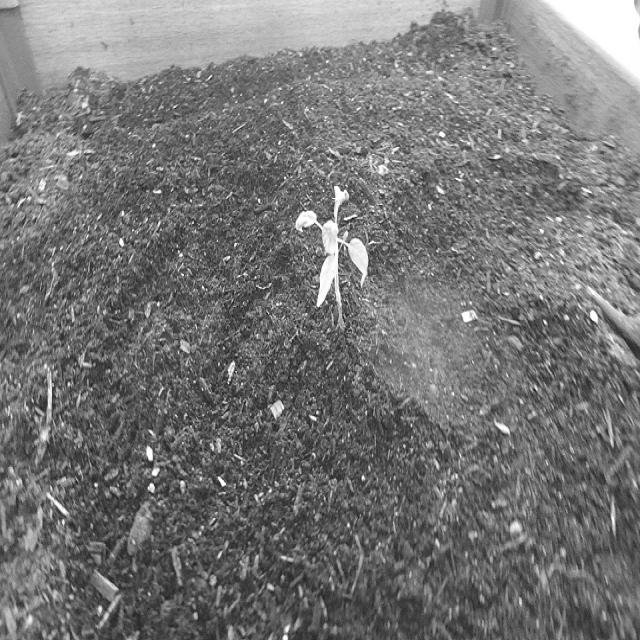Healthy: (291, 172, 379, 342)
